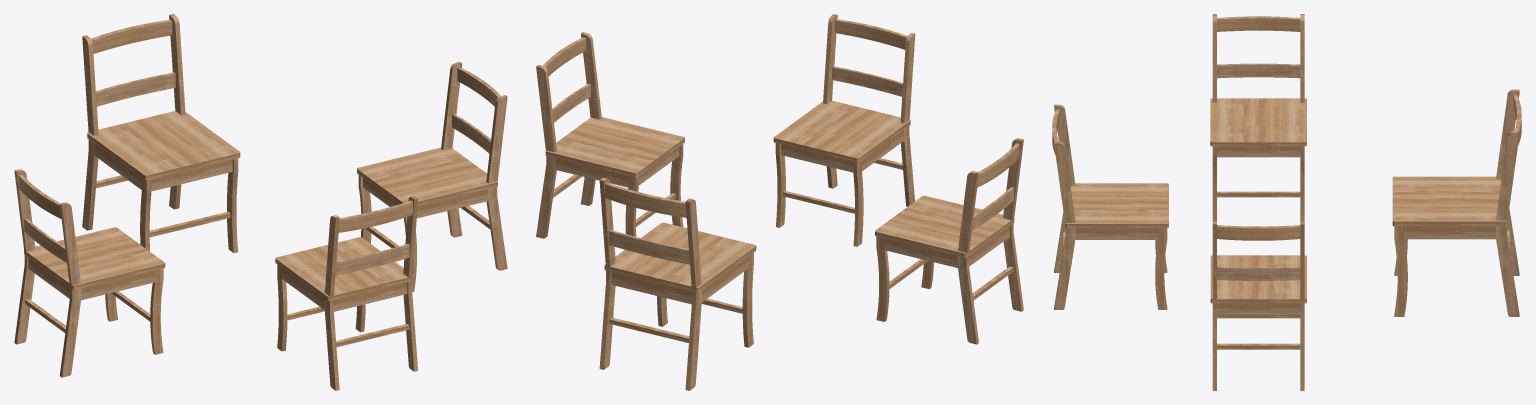
The model's file is chairs.obj.
3 views of the same model, side by side, from view 1: azimuth 30°, elevation 25°; view 2: azimuth 150°, elevation 25°; view 3: azimuth 270°, elevation 25° (orthographic). The views are drawn at different scales.
Parts seen in each view (by area): view 1: Fixed_Shelf__1__007, Fixed_Shelf__1__001, Fixed_Shelf__1__328, Fixed_Shelf__1__004, Divisioni_verticali__1__302, Divisioni_verticali__2__001, Divisioni_verticali__1__005, Divisioni_verticali__2__004, Divisioni_verticali__2__304, Divisioni_verticali__1__003, Fixed_Shelf__1__009, Fixed_Shelf__2__006 (+22 smaller); view 2: Fixed_Shelf__1__004, Fixed_Shelf__1__001, Fixed_Shelf__1__007, Fixed_Shelf__1__328, Divisioni_verticali__2__304, Divisioni_verticali__1__005, Divisioni_verticali__1__001, Divisioni_verticali__2__006, Divisioni_verticali__1__302, Divisioni_verticali__2__004, Fixed_Shelf__1__009, Fixed_Shelf__2__006 (+24 smaller); view 3: Fixed_Shelf__1__007, Fixed_Shelf__1__328, Fixed_Shelf__1__004, Fixed_Shelf__1__001, Divisioni_verticali__2__006, Divisioni_verticali__1__003, Doppio_fondo_1__1__005, Fixed_Shelf__1__003, Fixed_Shelf__1__306, Fixed_Shelf__2__308, Fixed_Shelf__2__002, Divisioni_verticali__1__005 (+12 smaller).
Boxes of the visible parts, box(x1,y1,x2,y2) form: Fixed_Shelf__1__007: box(87, 111, 240, 180); Fixed_Shelf__1__001: box(357, 147, 497, 205); Fixed_Shelf__1__328: box(24, 227, 165, 289); Fixed_Shelf__1__004: box(275, 237, 413, 300); Divisioni_verticali__1__302: box(59, 202, 81, 377); Divisioni_verticali__2__001: box(486, 95, 507, 270); Divisioni_verticali__1__005: box(82, 35, 98, 230); Divisioni_verticali__2__004: box(324, 215, 339, 390); Divisioni_verticali__2__304: box(14, 169, 35, 344); Divisioni_verticali__1__003: box(403, 196, 418, 371); Fixed_Shelf__1__009: box(91, 19, 172, 53); Fixed_Shelf__2__006: box(96, 72, 175, 106); Fixed_Shelf__1__004: box(773, 100, 910, 162); Fixed_Shelf__1__001: box(545, 117, 684, 177); Fixed_Shelf__1__007: box(604, 222, 756, 292); Fixed_Shelf__1__328: box(875, 195, 1014, 257); Divisioni_verticali__2__304: box(957, 171, 978, 344); Divisioni_verticali__1__005: box(685, 198, 701, 390); Divisioni_verticali__1__001: box(536, 65, 556, 238); Divisioni_verticali__2__006: box(599, 177, 615, 369); Divisioni_verticali__1__302: box(1003, 138, 1023, 311); Divisioni_verticali__2__004: box(900, 33, 915, 206); Fixed_Shelf__1__009: box(605, 182, 686, 217); Fixed_Shelf__2__006: box(608, 229, 689, 264); Fixed_Shelf__1__007: box(1392, 176, 1507, 226); Fixed_Shelf__1__328: box(1210, 98, 1306, 146); Fixed_Shelf__1__004: box(1065, 183, 1168, 228); Fixed_Shelf__1__001: box(1210, 255, 1306, 303); Divisioni_verticali__2__006: box(1495, 130, 1519, 316); Divisioni_verticali__1__003: box(1054, 141, 1075, 309); Doppio_fondo_1__1__005: box(1404, 226, 1495, 239); Fixed_Shelf__1__003: box(1217, 225, 1300, 240); Fixed_Shelf__1__306: box(1217, 16, 1300, 31); Fixed_Shelf__2__308: box(1217, 63, 1300, 78); Fixed_Shelf__2__002: box(1217, 266, 1300, 280); Divisioni_verticali__1__005: box(1496, 89, 1519, 275).
Bounding box in the file's own units: 985982 × 400327 × 923596.
1 material, 1 textured.
